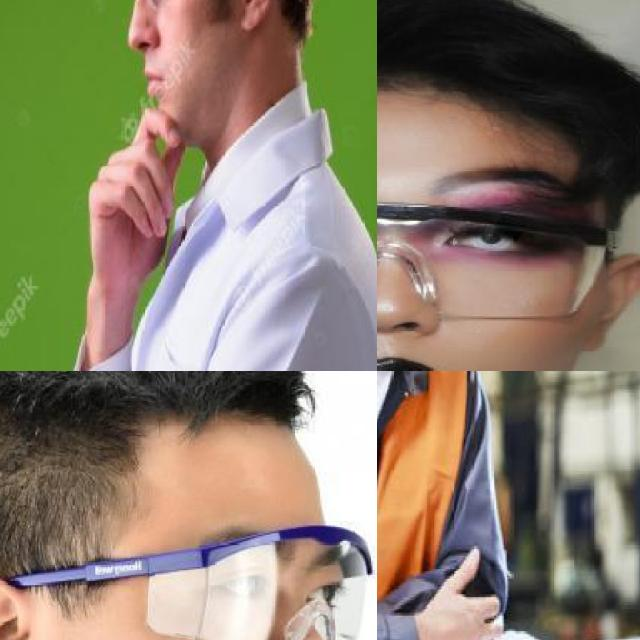face_nomask: (377, 198, 523, 371), (195, 548, 357, 640), (108, 0, 199, 112)
glasses: (0, 524, 373, 640), (377, 198, 626, 318)
hand_noglove: (80, 106, 190, 252), (405, 539, 505, 640)
head_nohelmet: (377, 0, 622, 153), (0, 371, 325, 472)
person: (57, 0, 377, 371), (377, 371, 493, 638)
vest: (377, 371, 462, 601)
